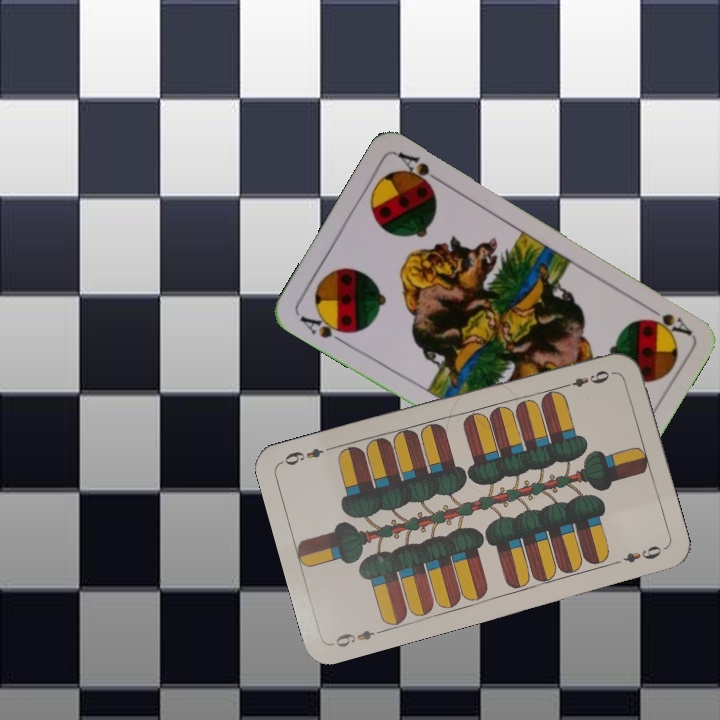E9: (558, 366, 616, 391), (329, 625, 387, 650)
SA: (295, 308, 354, 348), (640, 300, 694, 339)
